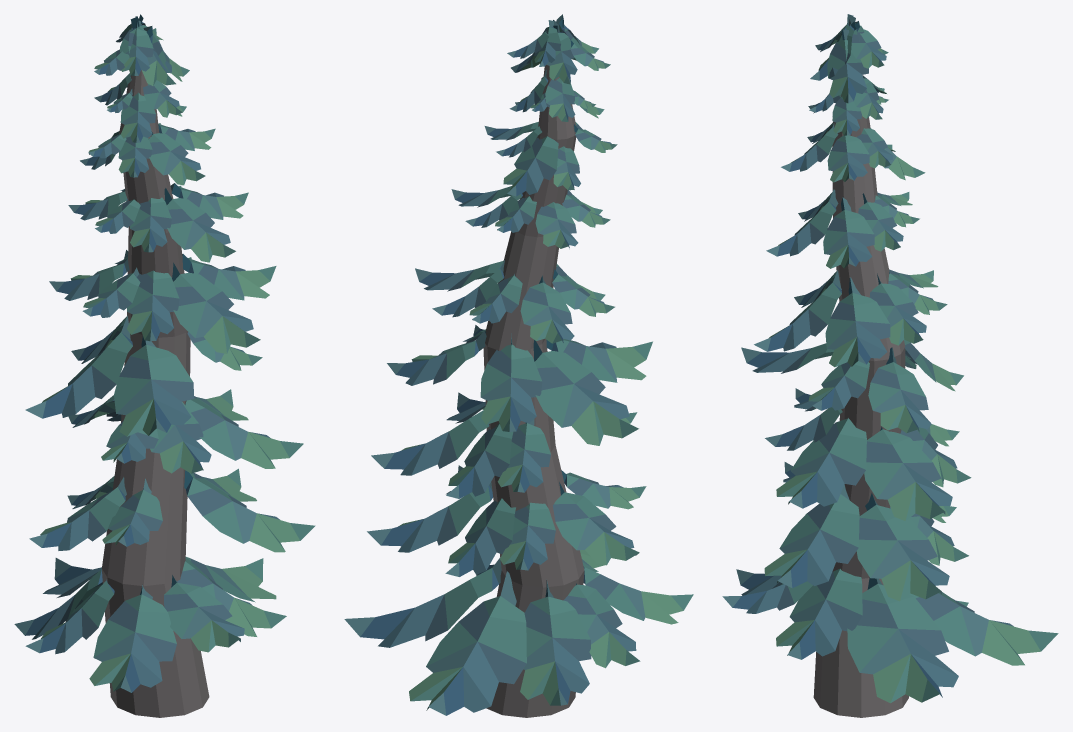
File: pine_with_tex.glb
The picture shows the model from 3 angles, left to right: view 1: azimuth 30°, elevation 25°; view 2: azimuth 150°, elevation 25°; view 3: azimuth 270°, elevation 25°; orthographic projection. The views are drawn at different scales.
Visible parts, largest first — view 1: pine.022; view 2: pine.022; view 3: pine.022.
Boxes of the visible parts, x1,y1,x2,y2 form: pine.022: [14, 14, 315, 717]; pine.022: [344, 14, 693, 717]; pine.022: [722, 14, 1058, 717].
Size of the model in its own units: 5.13 by 12.65 by 5.76.
1 material, 1 textured.
